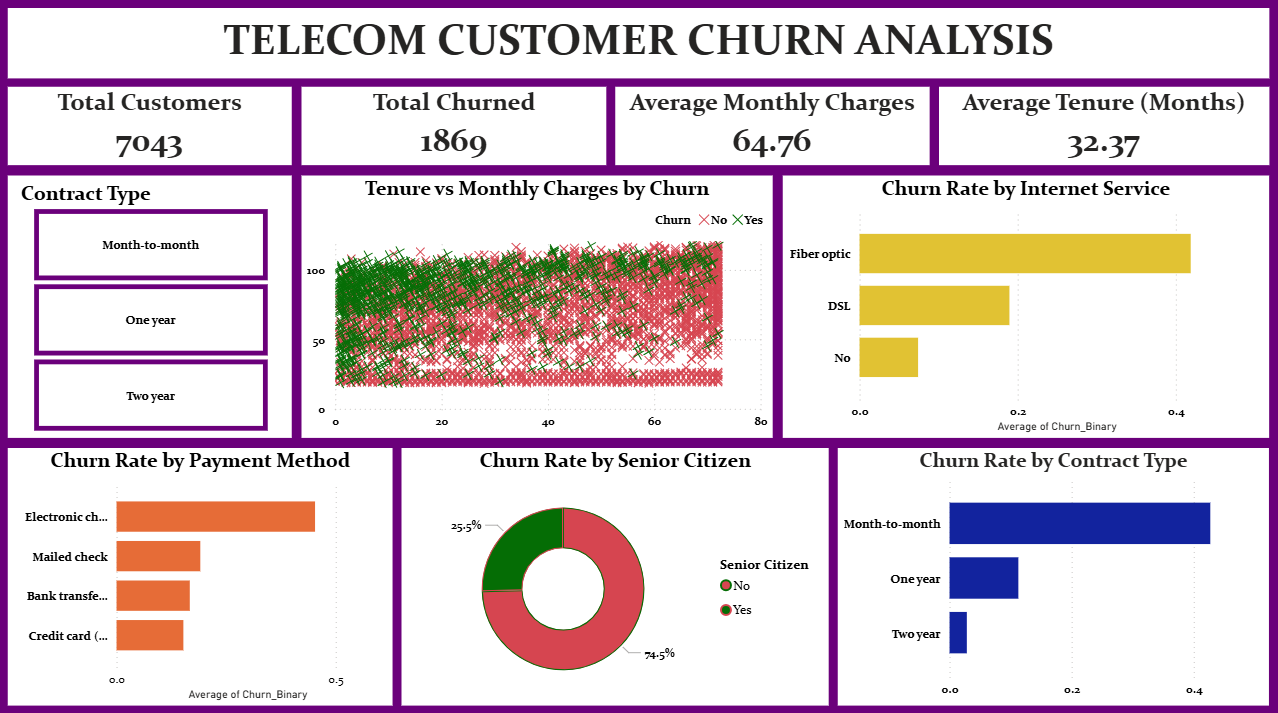

This screenshot's page, from the dashboard's own definition file:
{"tool":"powerbi","page":{"name":"Page 1","canvas":[1280,720],"ordinal":0},"visuals":[{"type":"card","title":"Total Customers","fields":{"Values":["CountNonNull(telco_churn_clean.customerID)"]},"box":[8.8,88.8,283.8,78.8],"z":0},{"type":"card","title":"Total Churned","fields":{"Values":["Sum(telco_churn_clean.Churn_Binary)"]},"box":[302.5,88.8,305,78.8],"z":1},{"type":"card","title":"Average Monthly Charges","fields":{"Values":["Avg(telco_churn_clean.MonthlyCharges)"]},"box":[616.1,89.2,314.2,78.2],"z":2},{"type":"card","title":"Average Tenure (Months)","fields":{"Values":["Avg(telco_churn_clean.tenure)"]},"box":[940,88.8,330,78.8],"z":3},{"type":"textbox","box":[8.8,10,1261.2,70],"z":4},{"type":"clusteredBarChart","title":"Churn Rate by Contract Type","fields":{"Category":["telco_churn_clean.Contract"],"Y":["Avg(telco_churn_clean.Churn_Binary)"]},"box":[838.8,450,431.2,257.5],"z":5},{"type":"clusteredBarChart","title":"Churn Rate by Internet Service","fields":{"Category":["telco_churn_clean.InternetService"],"Y":["Avg(telco_churn_clean.Churn_Binary)"]},"box":[783.8,177.5,486.2,262.5],"z":6},{"type":"clusteredBarChart","title":"Churn Rate by Payment Method","fields":{"Category":["telco_churn_clean.PaymentMethod"],"Y":["Avg(telco_churn_clean.Churn_Binary)"]},"box":[8.8,450,385,257.5],"z":7},{"type":"donutChart","title":"Churn Rate by Senior Citizen","fields":{"Category":["telco_churn_clean.SeniorCitizen"],"Y":["Sum(telco_churn_clean.Churn_Binary)"]},"box":[402.5,450,427.5,257.5],"z":8},{"type":"scatterChart","title":"Tenure vs Monthly Charges by Churn","fields":{"X":["Sum(telco_churn_clean.tenure)"],"Y":["Sum(telco_churn_clean.MonthlyCharges)"],"Series":["telco_churn_clean.Churn"],"Category":["telco_churn_clean.customerID"]},"box":[302.5,177.5,471.2,262.5],"z":9},{"type":"slicer","fields":{"Values":["telco_churn_clean.Contract"]},"box":[8.8,177.5,283.8,262.5],"z":10}]}

Visuals, with their boxes in screenshot pixels (x1, y1, x2, y2), scaled from the page's 1280x720 canvas onto the 1278x713 screenshot:
"Total Customers" card: bbox=(9, 88, 292, 166)
"Total Churned" card: bbox=(302, 88, 607, 166)
"Average Monthly Charges" card: bbox=(615, 88, 929, 166)
"Average Tenure (Months)" card: bbox=(939, 88, 1268, 166)
textbox: bbox=(9, 10, 1268, 79)
"Churn Rate by Contract Type" clusteredBarChart: bbox=(837, 446, 1268, 701)
"Churn Rate by Internet Service" clusteredBarChart: bbox=(783, 176, 1268, 436)
"Churn Rate by Payment Method" clusteredBarChart: bbox=(9, 446, 393, 701)
"Churn Rate by Senior Citizen" donutChart: bbox=(402, 446, 829, 701)
"Tenure vs Monthly Charges by Churn" scatterChart: bbox=(302, 176, 772, 436)
slicer - telco_churn_clean.Contract: bbox=(9, 176, 292, 436)
